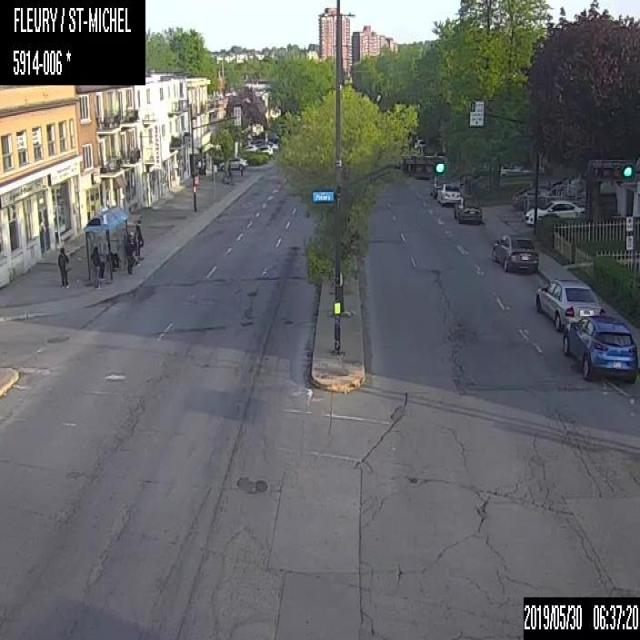pedestrian: (133, 218, 146, 264), (56, 245, 69, 288), (124, 230, 136, 275), (89, 244, 101, 287), (98, 236, 104, 280)
vehicle: (564, 311, 636, 383), (534, 273, 605, 331), (489, 231, 538, 273), (524, 198, 584, 226), (455, 202, 483, 226), (436, 183, 462, 205), (219, 155, 248, 170), (429, 175, 445, 197)
